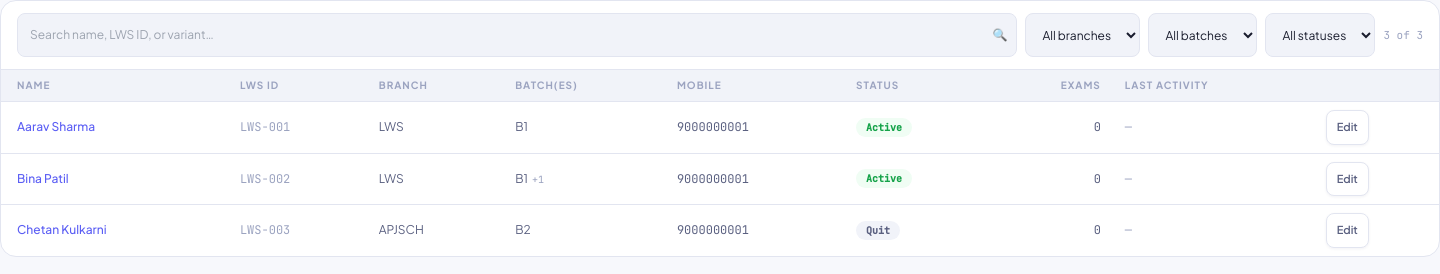
Scenario: StudentsTable — filters › branch filter narrows the list
This screenshot has width=1440, height=274.
Select "APJSCH" in the dropdown named "branch" at (1083, 35), box [1025,13,1140,57]
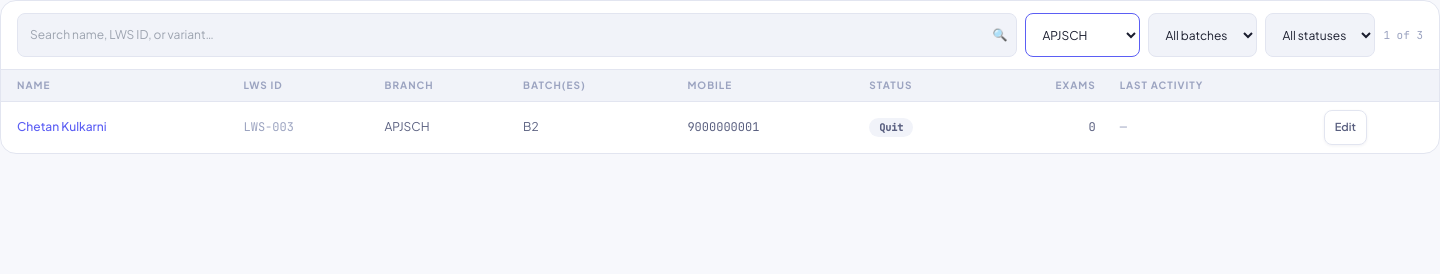
Expected: the button "Chetan Kulkarni" is shown, [17,118,107,136]
Now the button "Aarav Sharma" is gone
Now the button "Bina Patil" is gone
